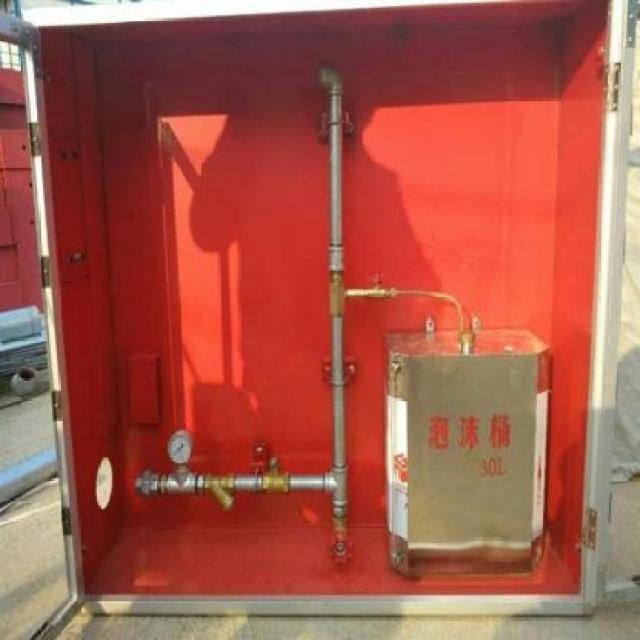firehydrant: (21, 0, 627, 622)
